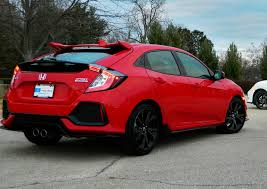Honda: (6, 40, 249, 154)
